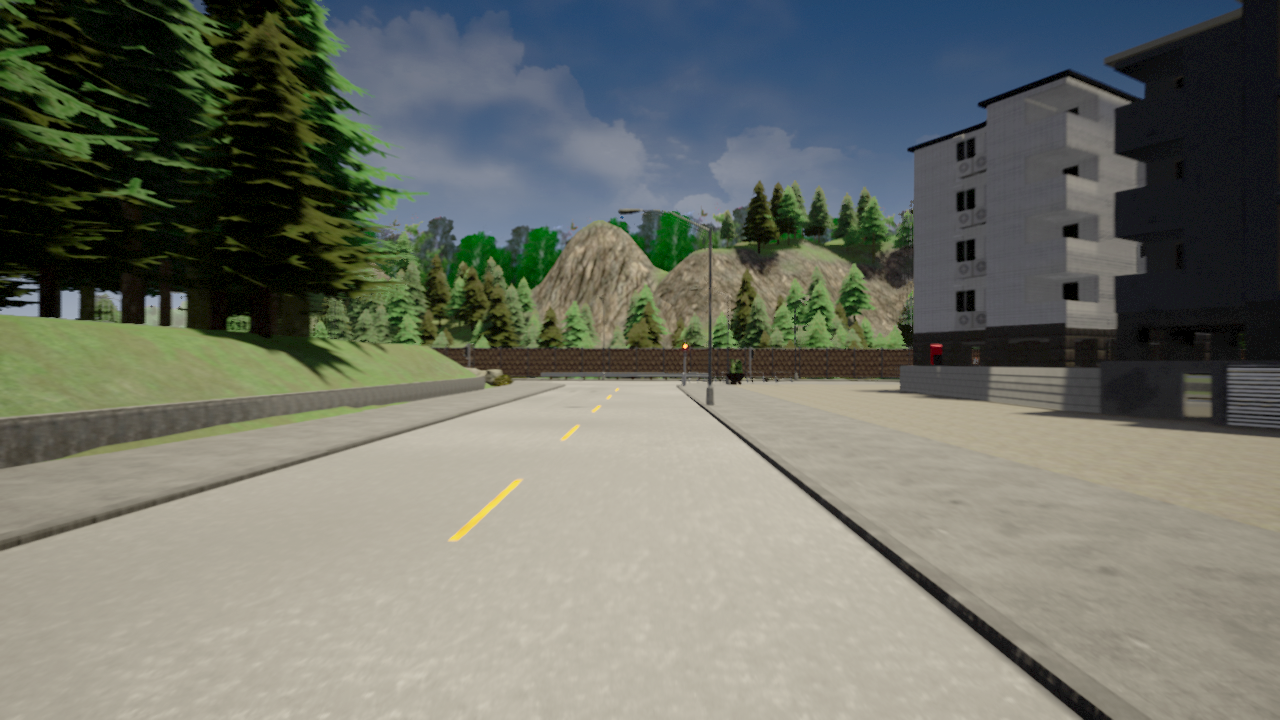red: (682, 342, 688, 357)
